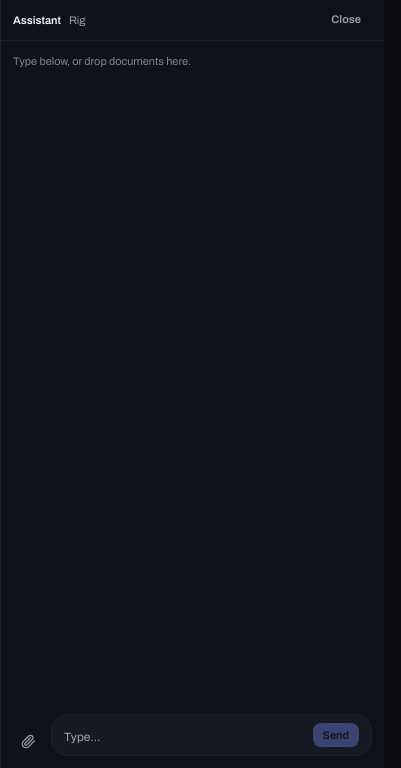
AssistDock — the chat block › a terminal reply SHORTER than the accumulated deltas never clobbers them (the wire has no history)
In the text box with test id "assist-input": (184, 737) 64,727 -> 304,747, type "plan it"
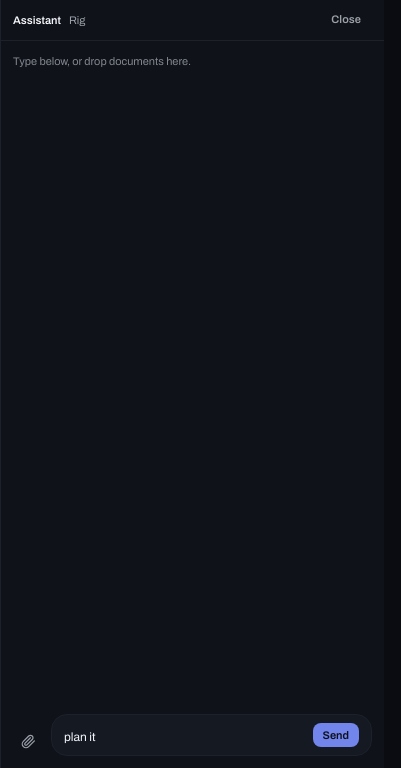
Click the button with test id "assist-send": (336, 735) 312,722 -> 359,747
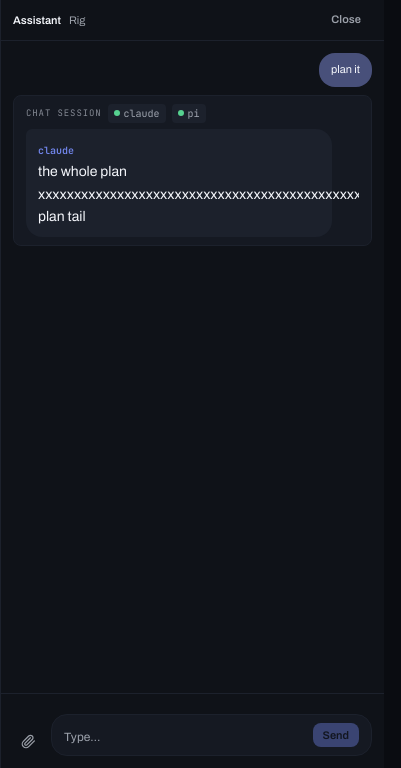
Expected: the element with test id "assist-chat" is shown, 13,95 -> 372,246
